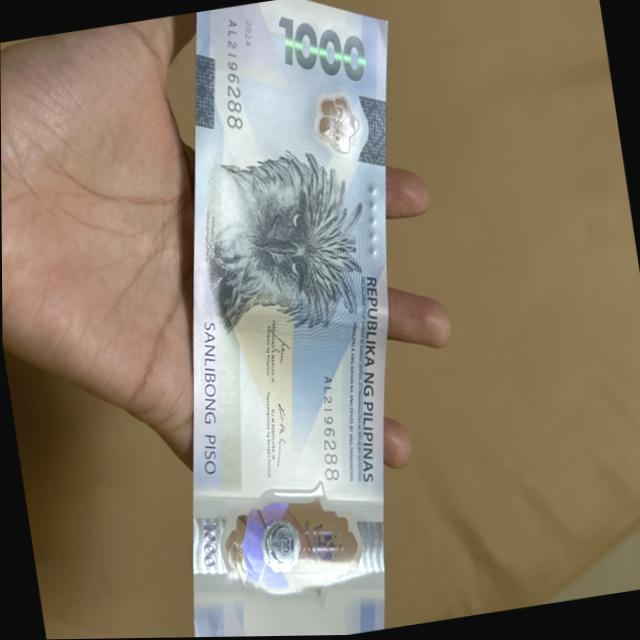clear_window: (196, 481, 376, 596)
eagle: (205, 157, 375, 326)
sampaguita: (310, 91, 364, 150)
